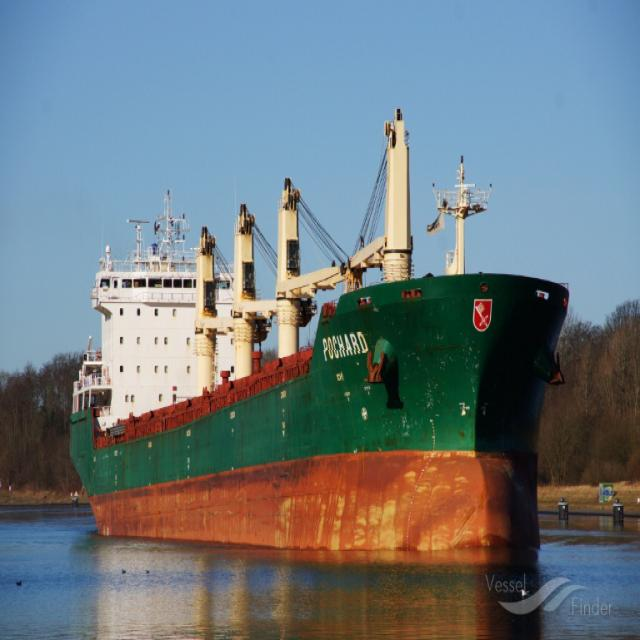OCR: (318, 332, 371, 368)
